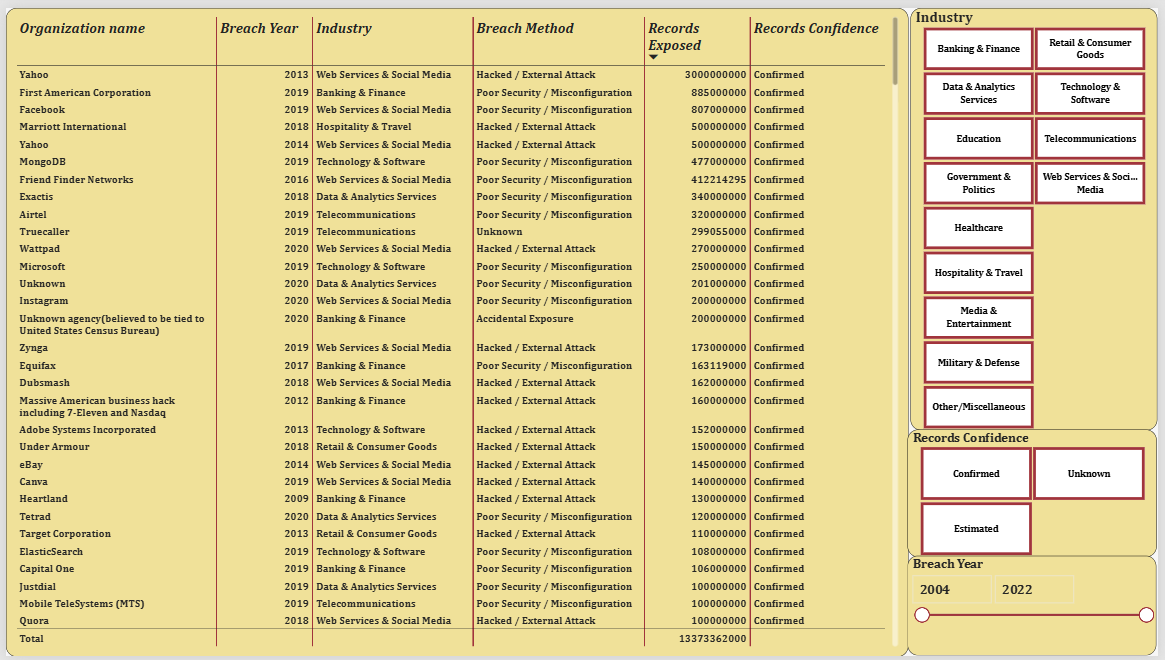

The page's visual inventory and layout, read from the dashboard file:
{"tool":"powerbi","page":{"name":"Page 2","canvas":[1920,1080],"ordinal":1},"visuals":[{"type":"tableEx","fields":{"Values":["df_1 (2).Organization name","df_1 (2).Breach Year","df_1 (2).Industry","df_1 (2).Breach Method","Sum(df_1 (2).Records Exposed)","df_1 (2).Records Confidence"]},"box":[0,0,1503.7,1081.5],"z":0},{"type":"slicer","fields":{"Values":["df_1 (2).Industry"]},"box":[1507.4,0,411.1,703.7],"z":1000},{"type":"slicer","fields":{"Values":["df_1 (2).Records Confidence"]},"box":[1503.7,703.7,415,212.5],"z":2000},{"type":"slicer","fields":{"Values":["df_1 (2).Breach Year"]},"box":[1503.7,913.3,414.8,166.7],"z":2001}]}

Visuals, with their boxes in screenshot pixels (x1, y1, x2, y2), scaled from the page's 1920x1080 canvas onto the 1165x660 screenshot:
tableEx - df_1 (2).Organization name x df_1 (2).Breach Year: locate(0, 0, 912, 659)
slicer - df_1 (2).Industry: locate(915, 0, 1164, 430)
slicer - df_1 (2).Records Confidence: locate(912, 430, 1164, 560)
slicer - df_1 (2).Breach Year: locate(912, 558, 1164, 659)
